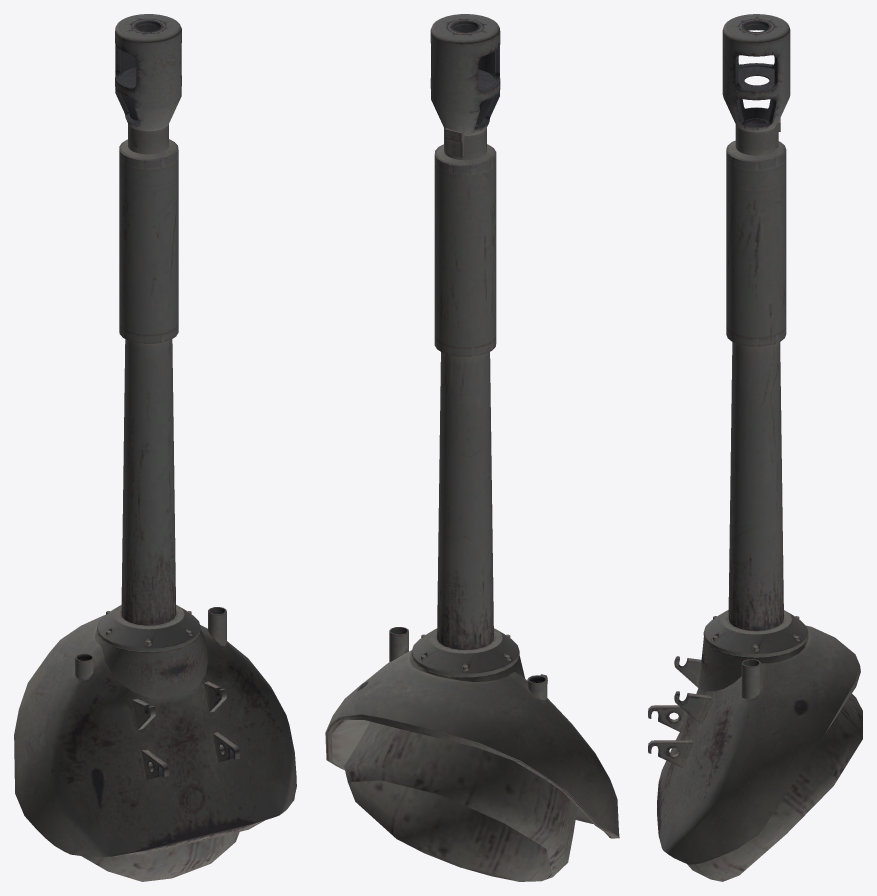
File: Gun_01.glb
The picture shows the model from 3 angles, left to right: view 1: azimuth 30°, elevation 25°; view 2: azimuth 150°, elevation 25°; view 3: azimuth 270°, elevation 25°; orthographic projection. The views are drawn at different scales.
Visible parts, largest first — view 1: set_0_group_0; view 2: set_0_group_0; view 3: set_0_group_0.
Boxes of the visible parts, bbox=[...] form: set_0_group_0: bbox=[14, 14, 296, 881]; set_0_group_0: bbox=[325, 14, 619, 881]; set_0_group_0: bbox=[648, 14, 862, 881].
Bounding box in the file's own units: 1.11 × 3.3 × 0.7634.
Materials: 1 (1 with a texture image).
